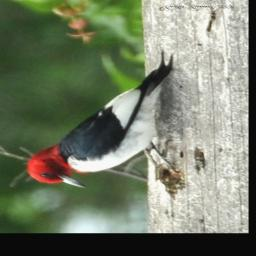Woodpecker: (27, 53, 172, 189)
